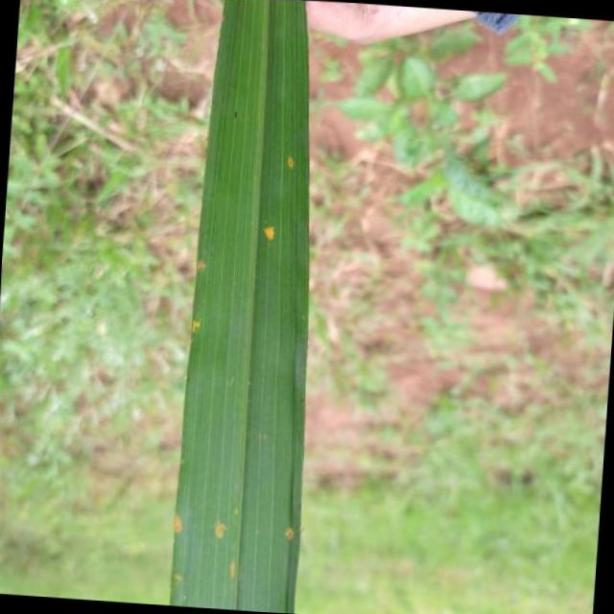Kalium: (165, 0, 305, 614)
